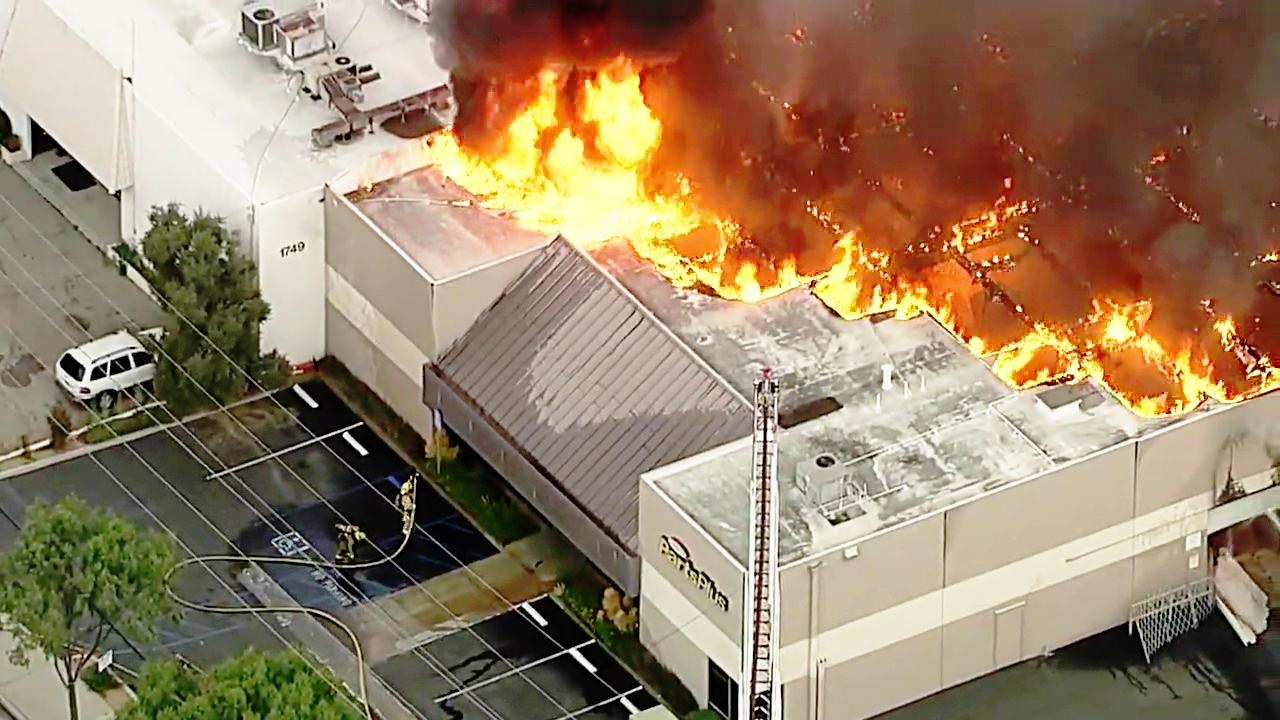fire: (442, 74, 657, 230), (1020, 285, 1247, 408), (686, 234, 877, 306)
